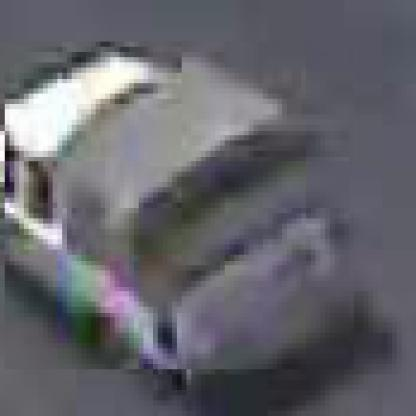truck: (6, 43, 360, 376)
